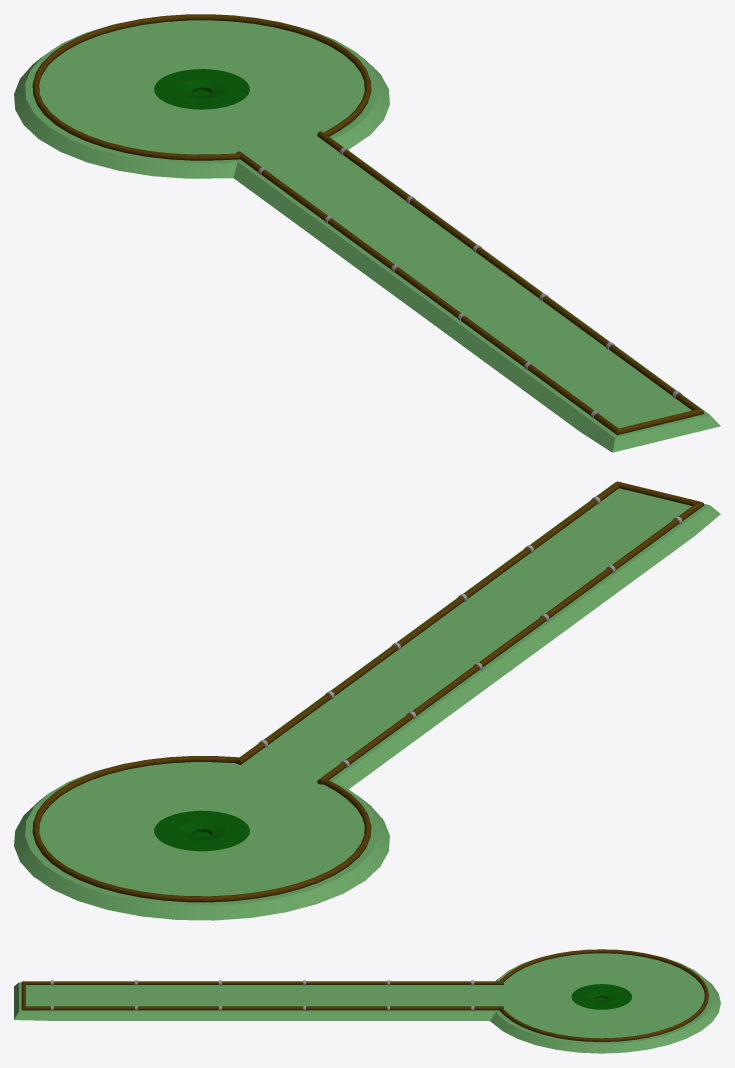
The model's file is Hole01.FBX.
3 renders of one model, top to bottom at view 1: azimuth 30°, elevation 25°; view 2: azimuth 150°, elevation 25°; view 3: azimuth 270°, elevation 25°, orthographic. The views are drawn at different scales.
Visible parts, largest first — view 1: Course01; view 2: Course01; view 3: Course01.
Boxes of the visible parts, x1,y1,x2,y2 form: Course01: [14, 14, 720, 452]; Course01: [14, 481, 720, 920]; Course01: [14, 949, 720, 1053].
Bounding box in the file's own units: 1700 × 78.27 × 5043.
